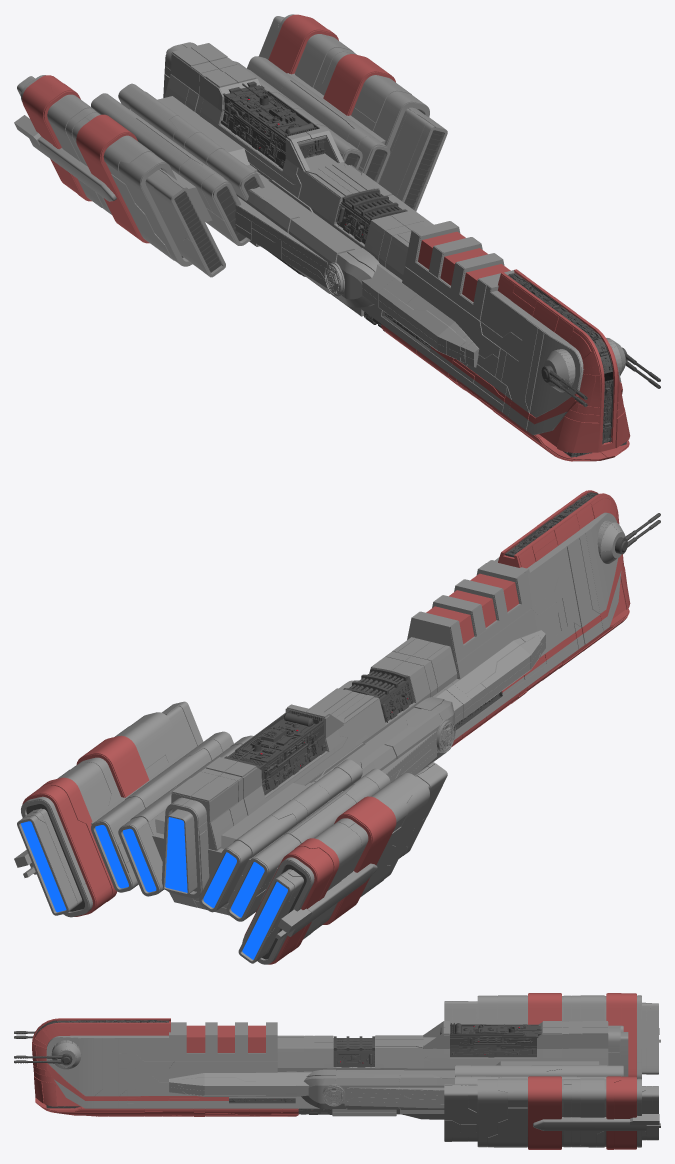
The picture shows the model from 3 angles, top to bottom: view 1: azimuth 30°, elevation 25°; view 2: azimuth 150°, elevation 25°; view 3: azimuth 270°, elevation 25°; orthographic projection. The views are drawn at different scales.
Parts seen in each view (by area): view 1: Main, Greebles; view 2: Main, Greebles; view 3: Main, Greebles.
Part boxes in pixels (<box>): Main: <box>14,14,660,461</box>; Greebles: <box>221,81,626,457</box>; Main: <box>14,490,660,964</box>; Greebles: <box>224,492,598,794</box>; Main: <box>14,993,660,1149</box>; Greebles: <box>35,1020,541,1119</box>.
Size of the model in its own units: 57.84 by 25.99 by 159.
